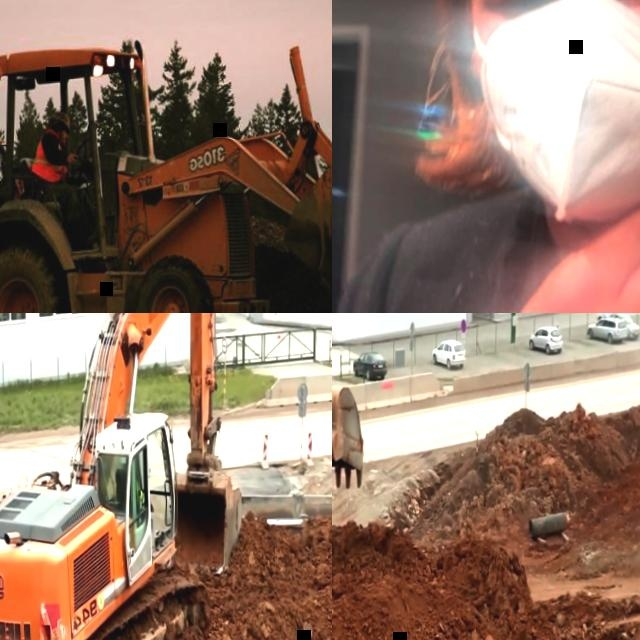Hardhat: (52, 109, 73, 128)
Mask: (470, 0, 640, 237)
NO-Mask: (58, 132, 69, 146)
NO-Safety Vest: (373, 173, 640, 313)
Person: (332, 0, 640, 313), (30, 107, 94, 253), (130, 467, 146, 524)
Safety Vest: (32, 128, 71, 182), (137, 481, 144, 502)
machinery: (0, 0, 332, 313), (0, 313, 250, 640)
vehicle: (587, 317, 628, 345), (433, 339, 467, 371), (353, 351, 388, 382), (529, 326, 563, 356), (608, 313, 640, 343), (596, 313, 621, 321)
